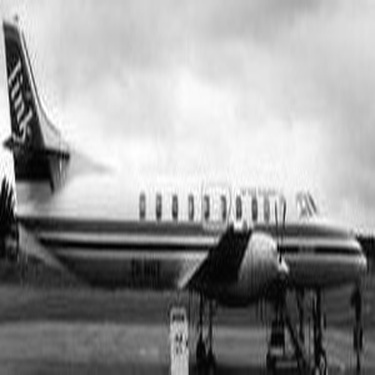airplane: (1, 4, 374, 371)
